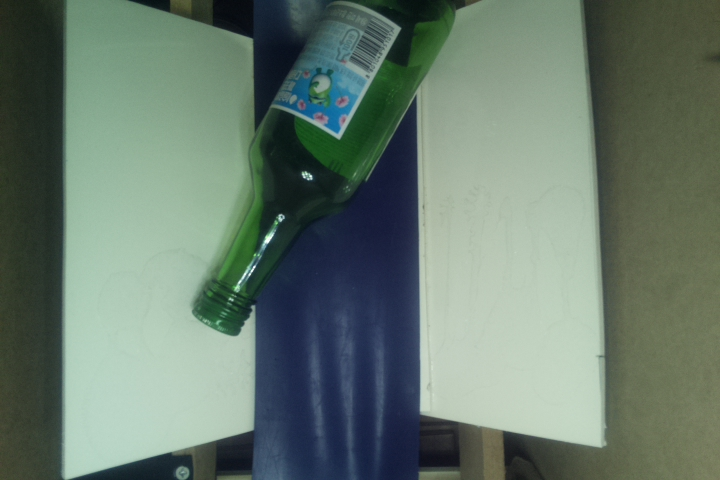soju: (190, 1, 459, 339)
